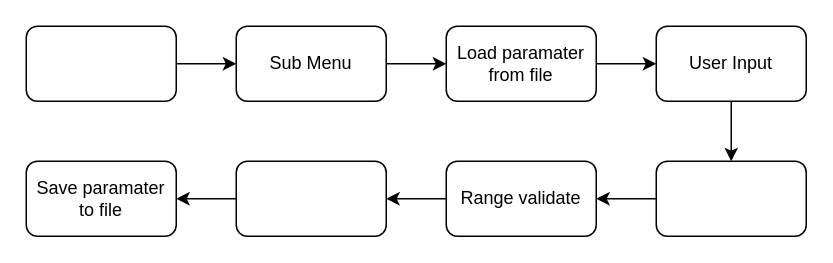
This 833x263 diagram has some shape labels left out. Here are the shapes that lost their labels. From the top down, the centre of each, then its label:
At point (100, 63): "Main Menu".
At point (310, 198): "Output result".
At point (730, 198): "Calculate".
